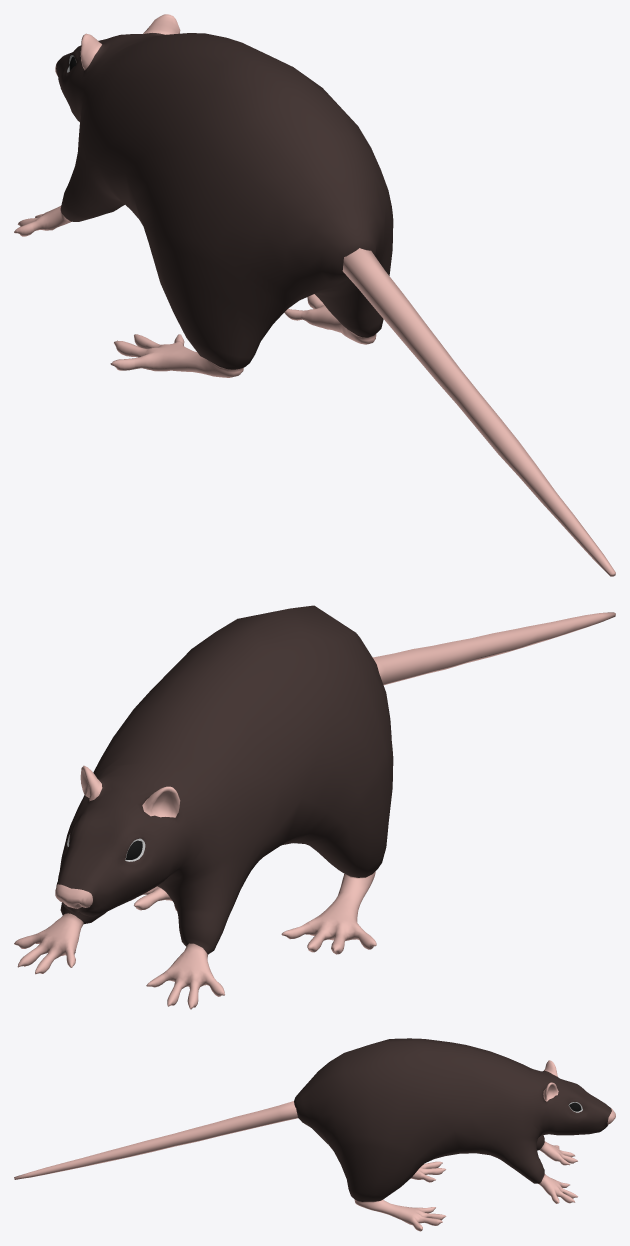
Rendered from the_rat 1.fbx.
3 renders of one model, top to bottom at view 1: azimuth 30°, elevation 25°; view 2: azimuth 150°, elevation 25°; view 3: azimuth 270°, elevation 25°, orthographic. The views are drawn at different scales.
Parts seen in each view (by area): view 1: body, tail; view 2: body, tail; view 3: body, tail.
Boxes of the visible parts, x1,y1,x2,y2 form: body: (14,14,393,377); tail: (342,248,615,576); body: (14,605,393,1009); tail: (372,612,615,685); body: (294,1038,615,1231); tail: (14,1101,297,1179).
Size of the model in its own units: 2.51 by 2.58 by 8.94.
